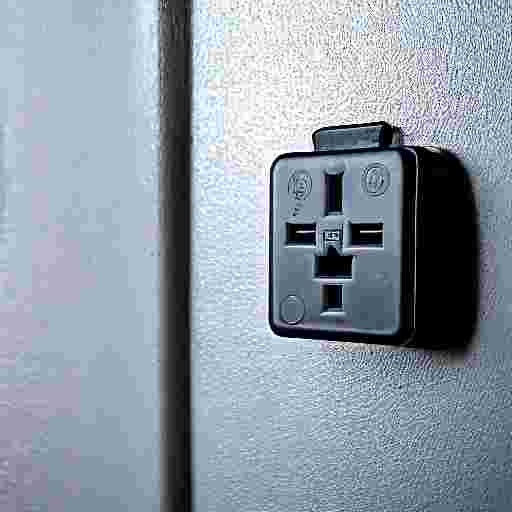power outlet: (269, 122, 477, 347)
